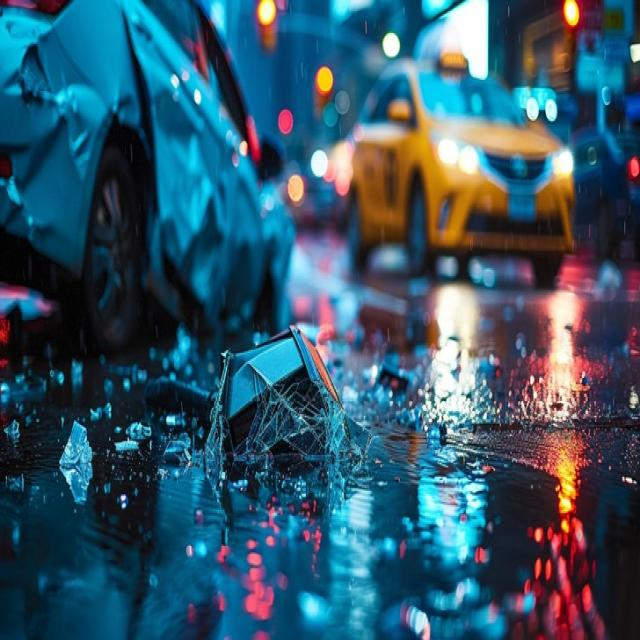Accident: (2, 0, 358, 537)
